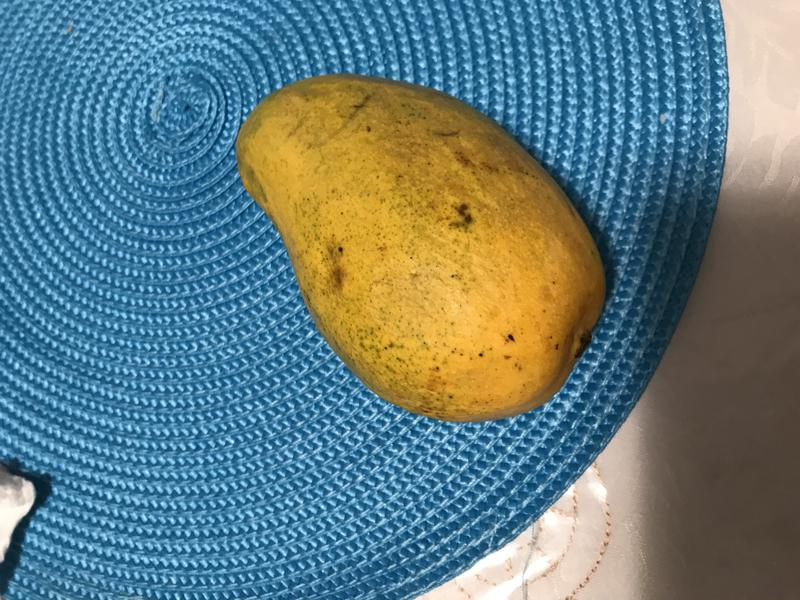mango: (228, 70, 614, 427)
